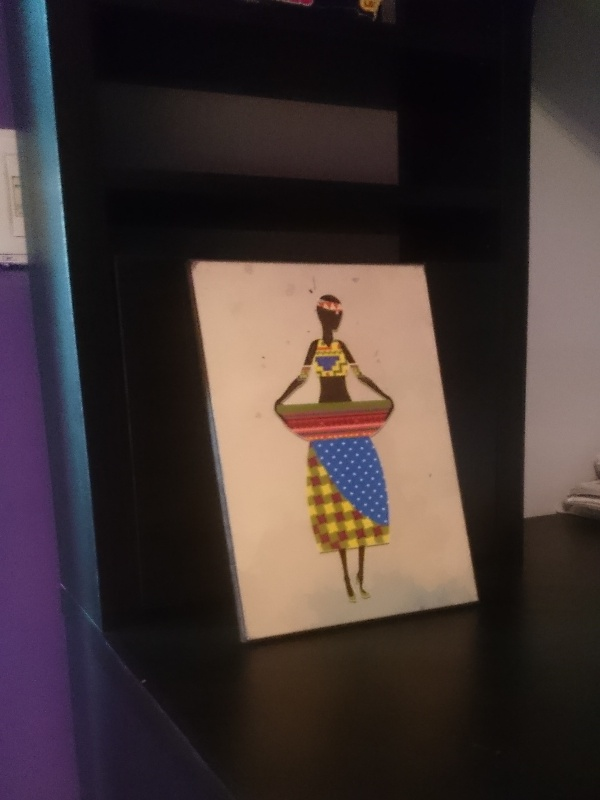my image: (190, 262, 480, 647)
